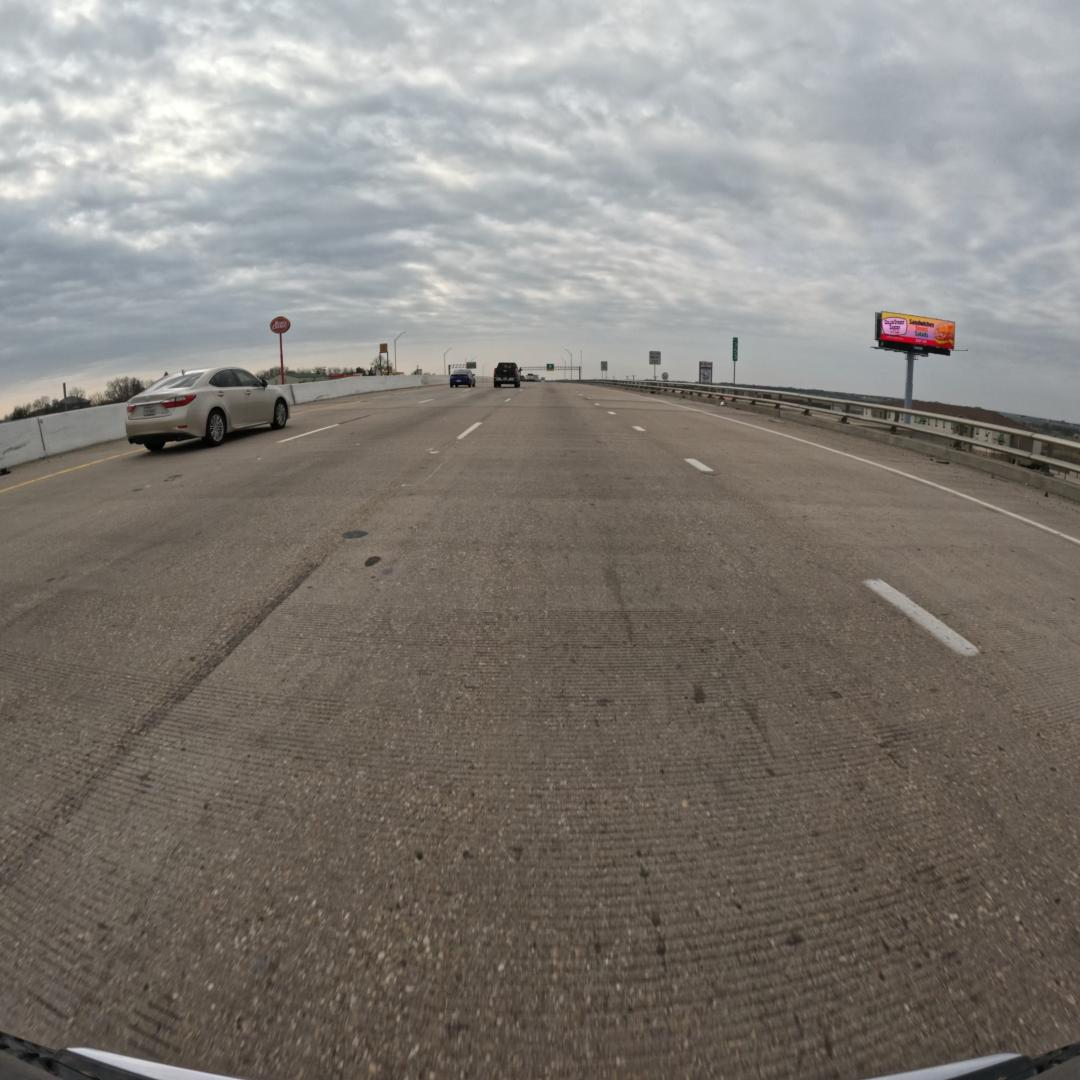lane0: (0, 388, 1080, 1080)
lane1: (0, 389, 521, 887)
